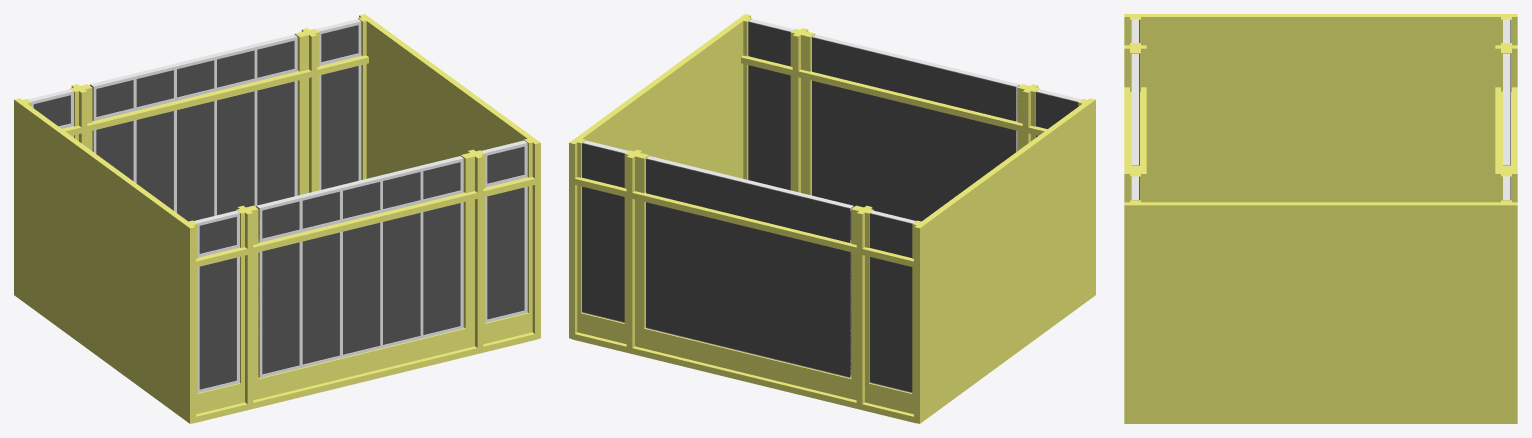
File: nhatang1.fbx
3 views of the same model, side by side, from view 1: azimuth 30°, elevation 25°; view 2: azimuth 150°, elevation 25°; view 3: azimuth 270°, elevation 25° (orthographic). The views are drawn at different scales.
Parts seen in each view (by area): view 1: VBox066, VBox065, VBox007, VBox021, VBox014, VBox056, VBox049, VBox028, VBox042, VBox035, VBox115, VBox122 (+32 smaller); view 2: VBox066, VBox065, VBox087, VBox080, VBox122, VBox094, VBox108, VBox115, VBox101, VBox073, VBox056, VBox035 (+24 smaller); view 3: VBox065, VBox066, VBox004, VBox070, VBox005, VBox071, VBox068, VBox002, VBox069, VBox003, VBox001.
Boxes of the visible parts, left/top/right/bottom form: VBox066: left=19, top=103, right=190, bottom=419; VBox065: left=366, top=21, right=535, bottom=178; VBox007: left=196, top=312, right=532, bottom=413; VBox021: left=256, top=201, right=299, bottom=376; VBox014: left=199, top=217, right=236, bottom=389; VBox056: left=487, top=146, right=524, bottom=319; VBox049: left=423, top=162, right=460, bottom=334; VBox028: left=302, top=191, right=339, bottom=364; VBox042: left=383, top=172, right=420, bottom=344; VBox035: left=343, top=182, right=379, bottom=354; VBox115: left=257, top=41, right=294, bottom=205; VBox122: left=321, top=25, right=358, bottom=189; VBox066: left=923, top=102, right=1090, bottom=419; VBox065: left=579, top=17, right=745, bottom=178; VBox087: left=807, top=198, right=852, bottom=377; VBox080: left=869, top=213, right=912, bottom=392; VBox122: left=582, top=143, right=624, bottom=322; VBox094: left=766, top=188, right=809, bottom=366; VBox108: left=686, top=168, right=729, bottom=347; VBox115: left=646, top=159, right=688, bottom=337; VBox101: left=726, top=179, right=769, bottom=356; VBox073: left=581, top=312, right=913, bottom=414; VBox056: left=748, top=21, right=790, bottom=190; VBox035: left=892, top=57, right=935, bottom=221; VBox065: left=1135, top=202, right=1506, bottom=423; VBox066: left=1135, top=14, right=1500, bottom=202; VBox004: left=1124, top=202, right=1146, bottom=423; VBox070: left=1495, top=202, right=1517, bottom=423; VBox005: left=1124, top=87, right=1146, bottom=170; VBox071: left=1495, top=87, right=1517, bottom=170; VBox068: left=1495, top=45, right=1517, bottom=87; VBox002: left=1124, top=45, right=1146, bottom=87; VBox069: left=1495, top=171, right=1517, bottom=202; VBox003: left=1124, top=171, right=1146, bottom=202; VBox001: left=1124, top=14, right=1146, bottom=45.
Size of the model in its own units: 30.5 by 16.28 by 26.5.
